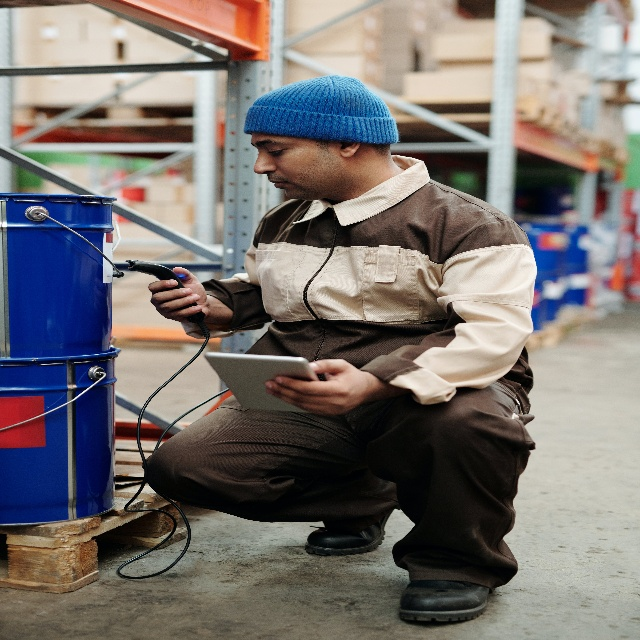Sin_guantes: (264, 357, 367, 415), (148, 263, 211, 332)
